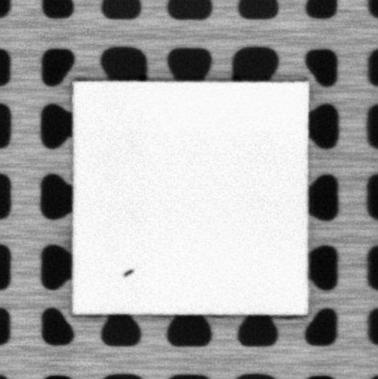DIE_INK: (123, 266, 133, 278)
